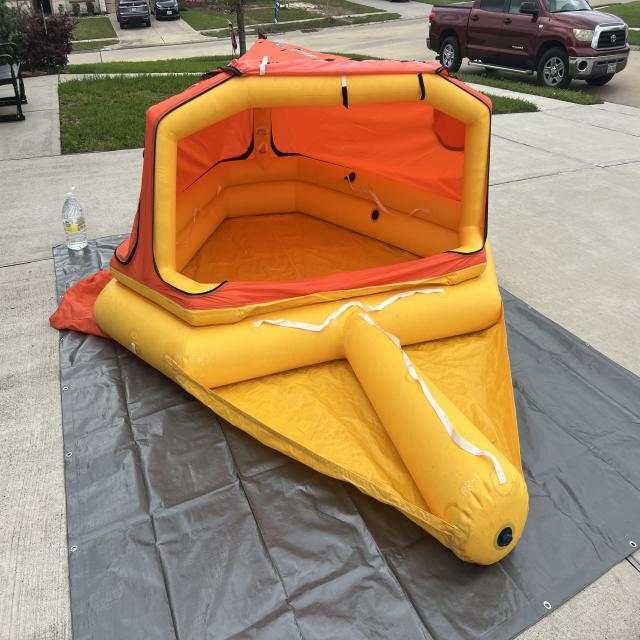Multi-person_life_raft: (47, 40, 531, 567)
